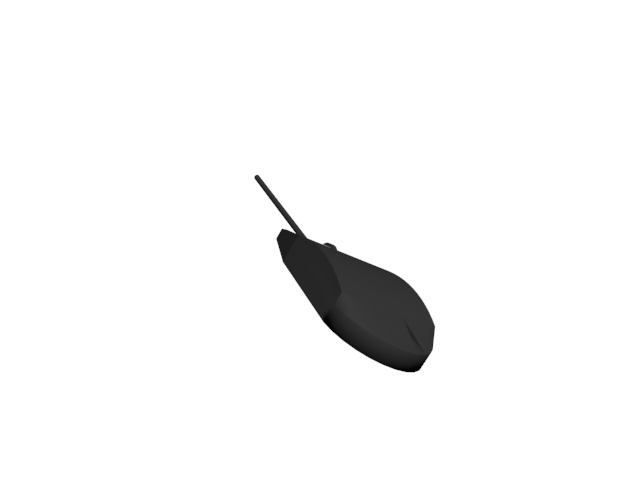mouse: (249, 169, 440, 376)
